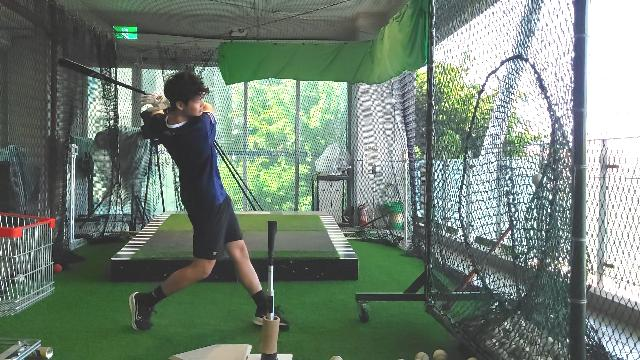ball: (532, 173, 548, 187)
bat: (59, 56, 144, 94)
